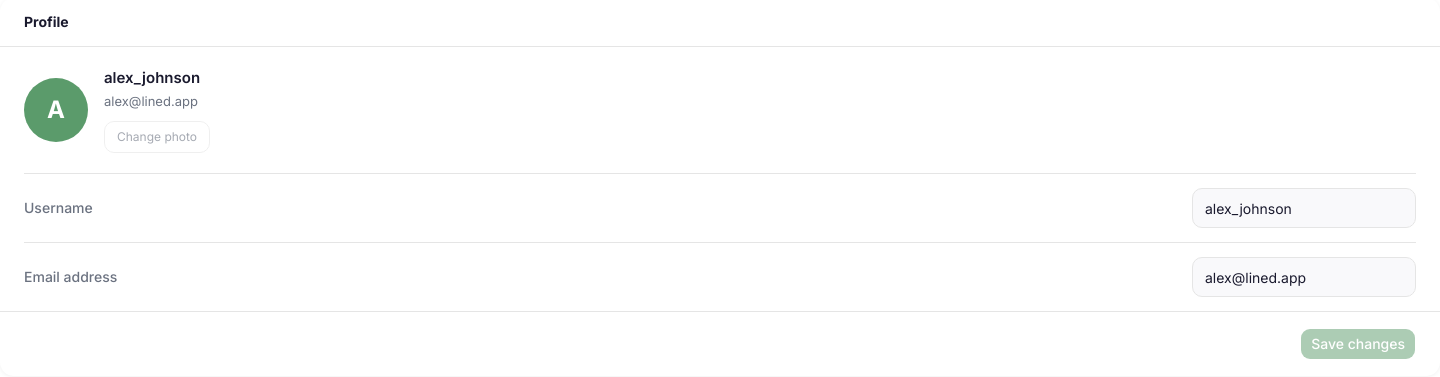
Test: ProfileCard › keeps Save changes disabled until a field is edited
The width and height of the screenshot is (1440, 377).
Expected: the button "Save changes" is disabled, [1300,328,1416,360]
Step 1. Type "x" into the field named "Username" → (1304,208), box [1192,188,1416,228]
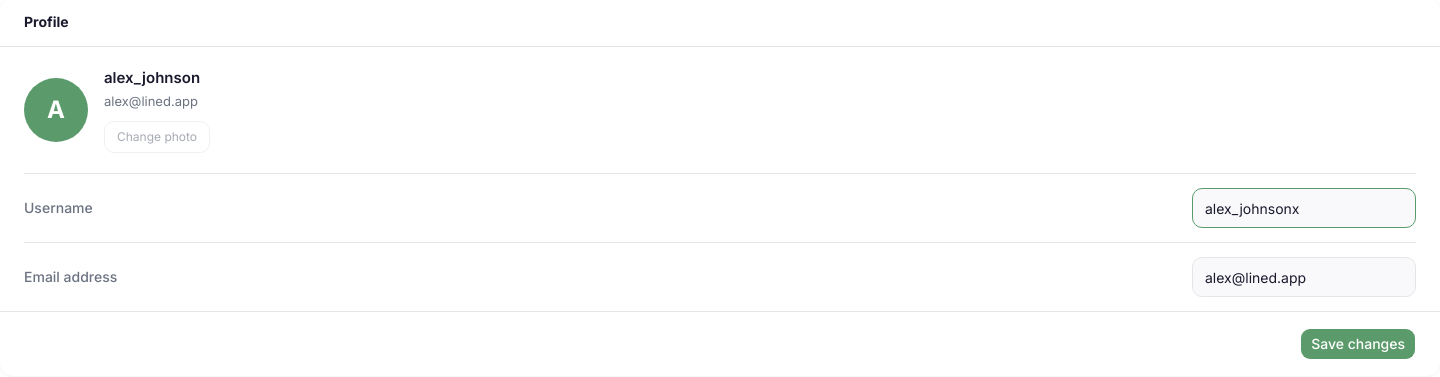
Result: the button "Save changes" is enabled at [1300,328,1416,360]
